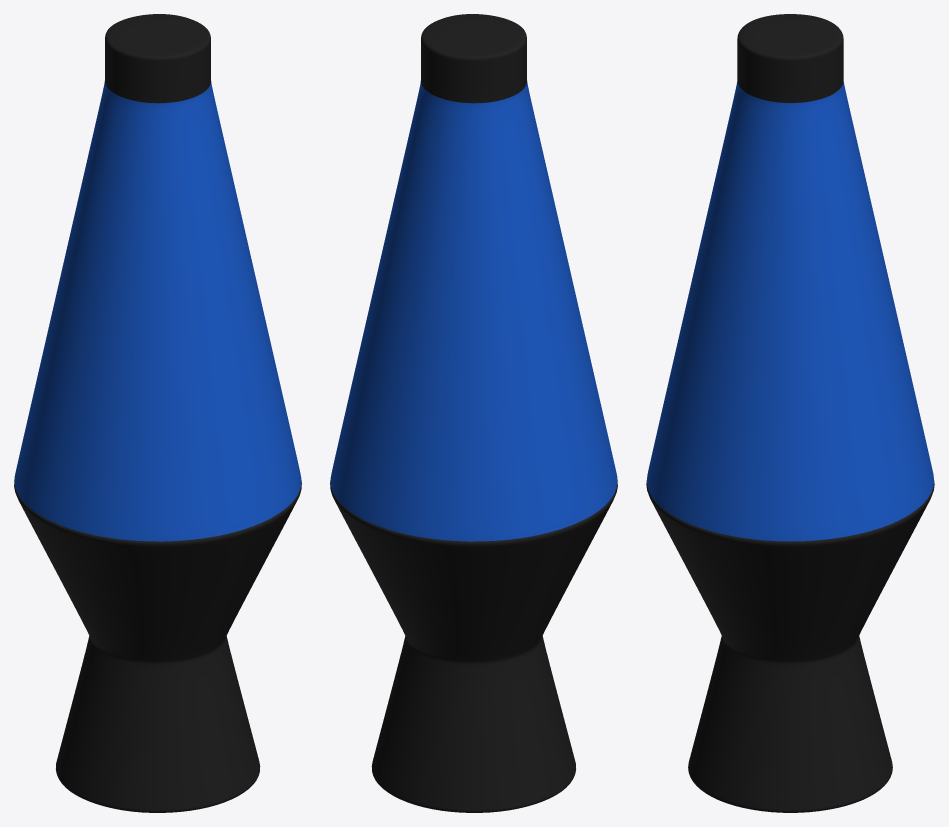
Rendered from Lava_Lamp.fbx.
3 renders of one model, left to right at view 1: azimuth 30°, elevation 25°; view 2: azimuth 150°, elevation 25°; view 3: azimuth 270°, elevation 25°, orthographic.
Visible parts, largest first — view 1: Lava, Base, Lid; view 2: Lava, Base, Lid; view 3: Lava, Base, Lid.
Part boxes in pixels (x1=…): Lava: x1=14, y1=81, x2=301, y2=541; Base: x1=14, y1=479, x2=301, y2=812; Lid: x1=105, y1=14, x2=210, y2=103; Lava: x1=330, y1=81, x2=617, y2=541; Base: x1=330, y1=479, x2=617, y2=812; Lid: x1=421, y1=14, x2=526, y2=103; Lava: x1=646, y1=82, x2=934, y2=541; Base: x1=646, y1=481, x2=934, y2=812; Lid: x1=737, y1=14, x2=843, y2=102.
Bounding box in the file's own units: 122 × 343 × 122.
